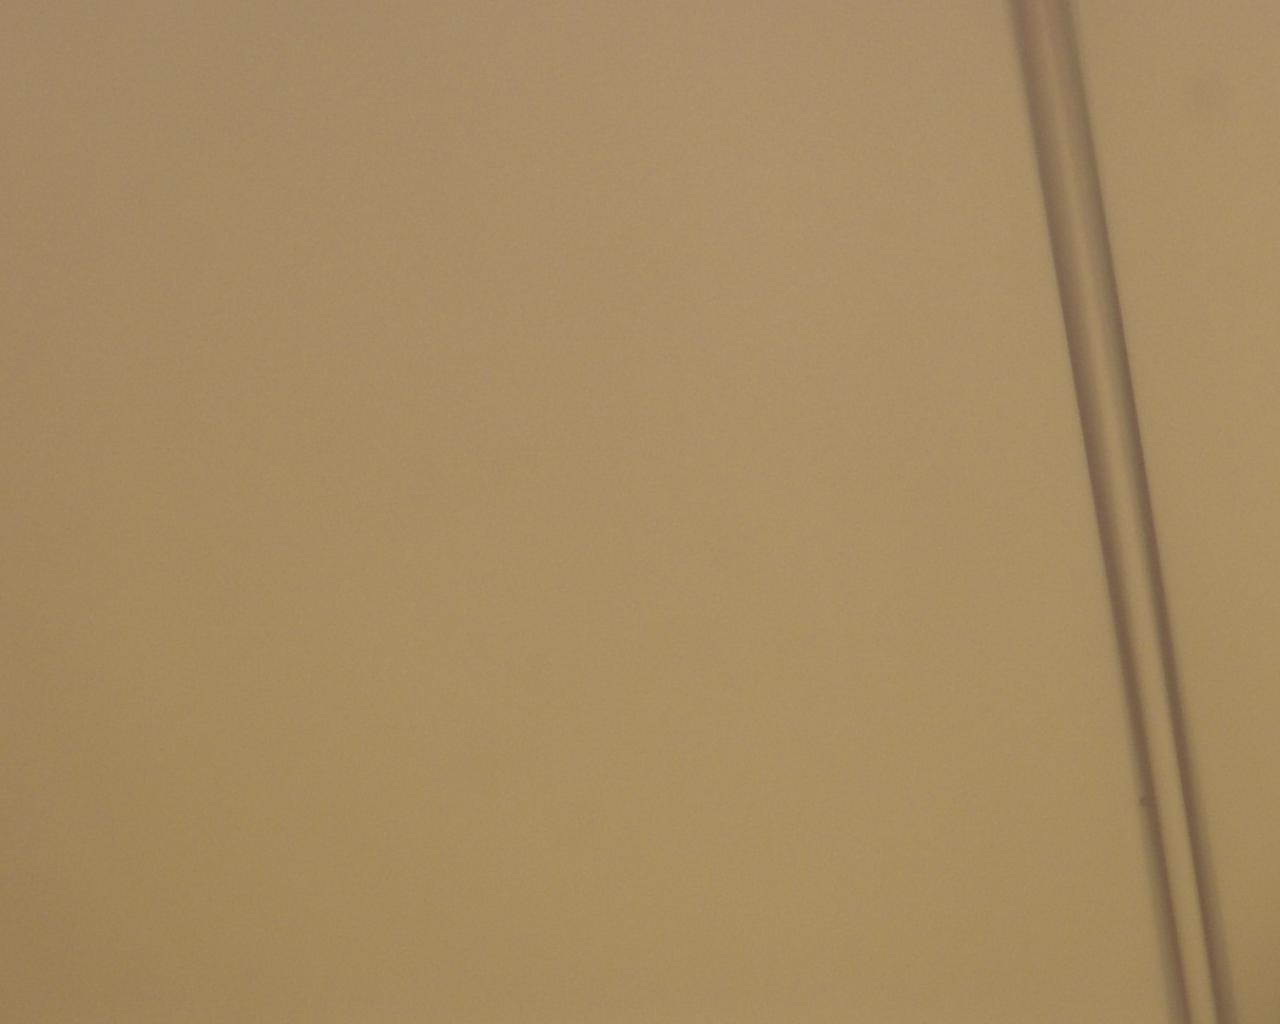fiber: (620, 552, 850, 1024), (690, 0, 853, 552)
